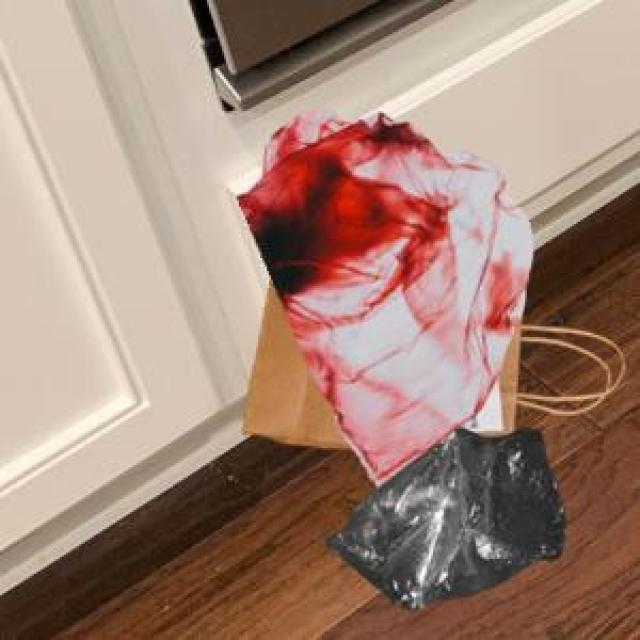paper: (239, 275, 607, 446)
